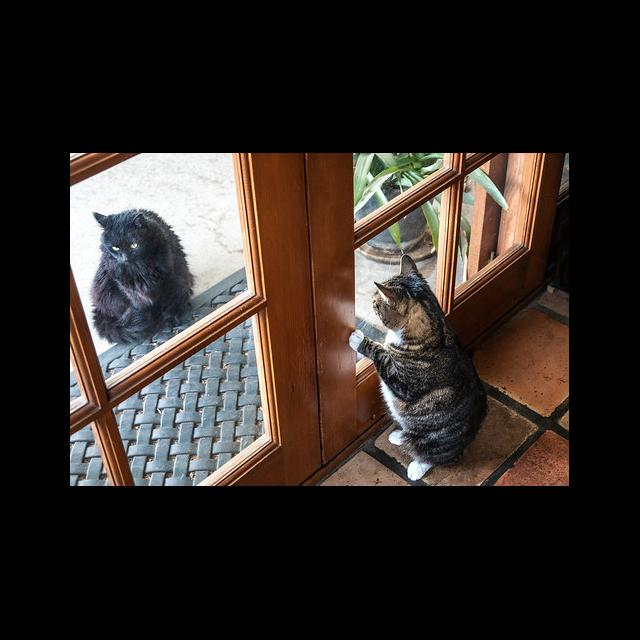animals: (349, 255, 488, 481), (93, 210, 193, 344)
